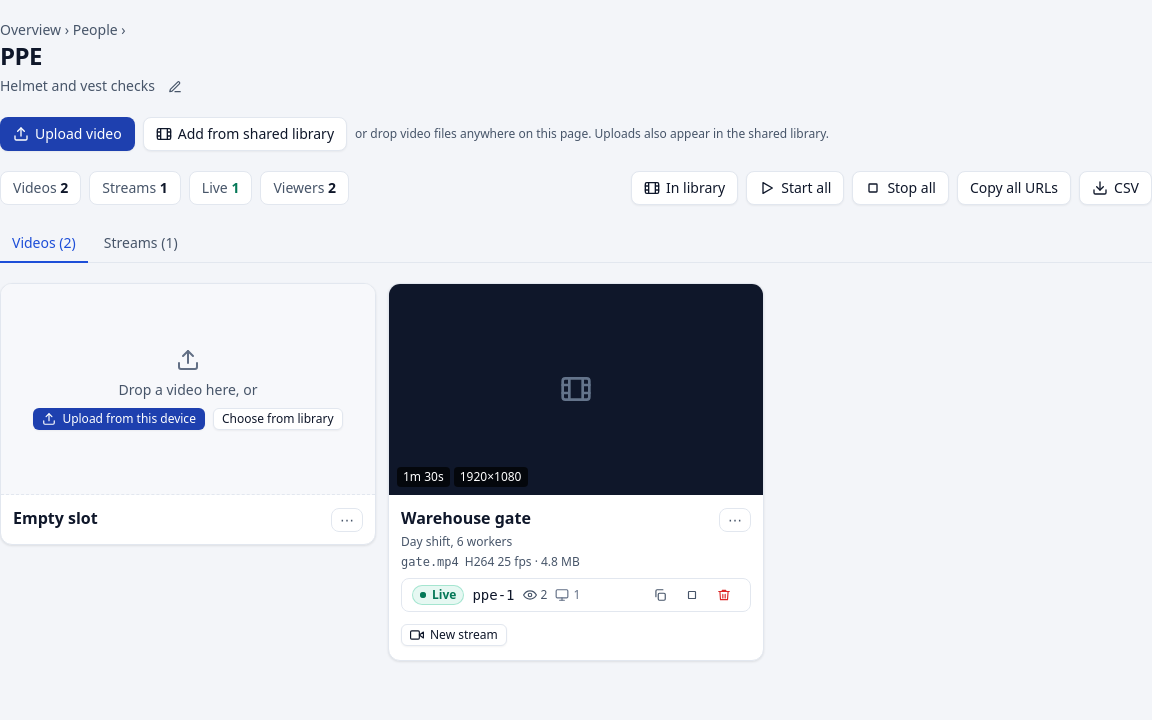
Test: AnalyticsPage › shows placeholders, their streams and viewers, and suggests the next camera names
expect the heading "PPE" is shown: met, box [0,39,42,72]
expect the text "Helmet and vest checks" is shown: met, box [0,76,191,97]
Click the button "New stream" at (454, 635), box [401,624,507,646]
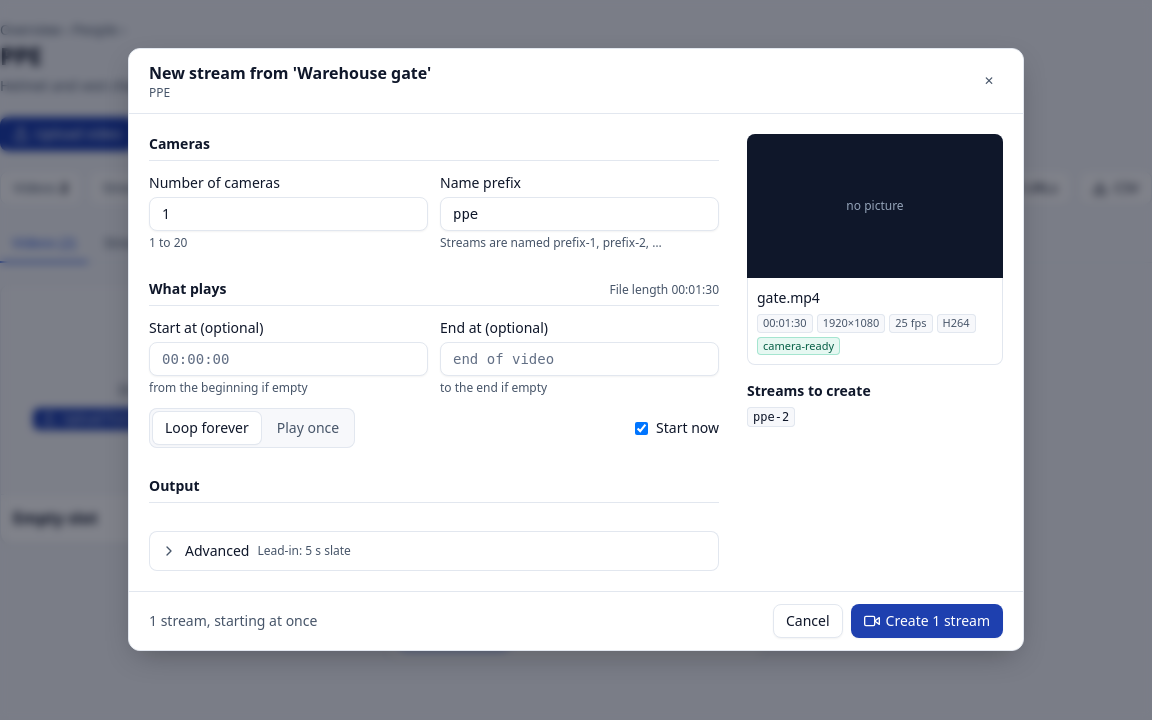
Replace the text in the number field labelled "Number of cameras" with "3" at (288, 214), box [149,197,428,231]
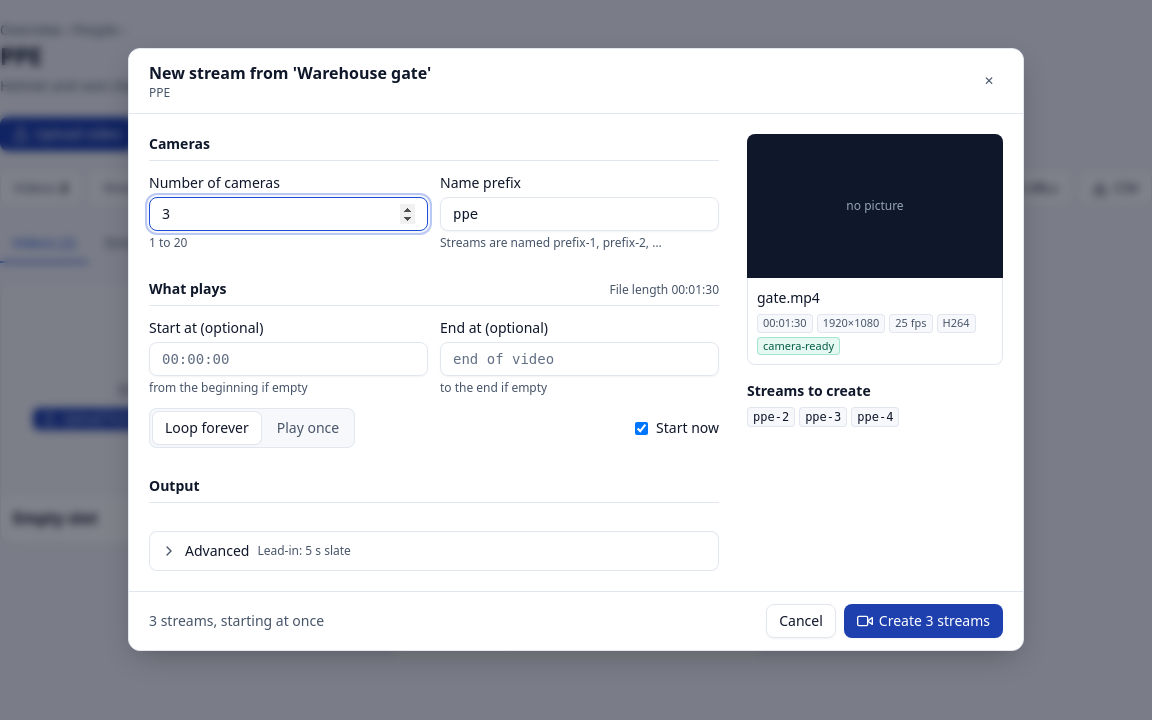
expect the text "ppe-2" is shown: met, box [747,407,795,427]
expect the text "ppe-4" is shown: met, box [851,407,899,427]
expect the button "Create 3 streams" is enabled: met, box [844,604,1003,638]
